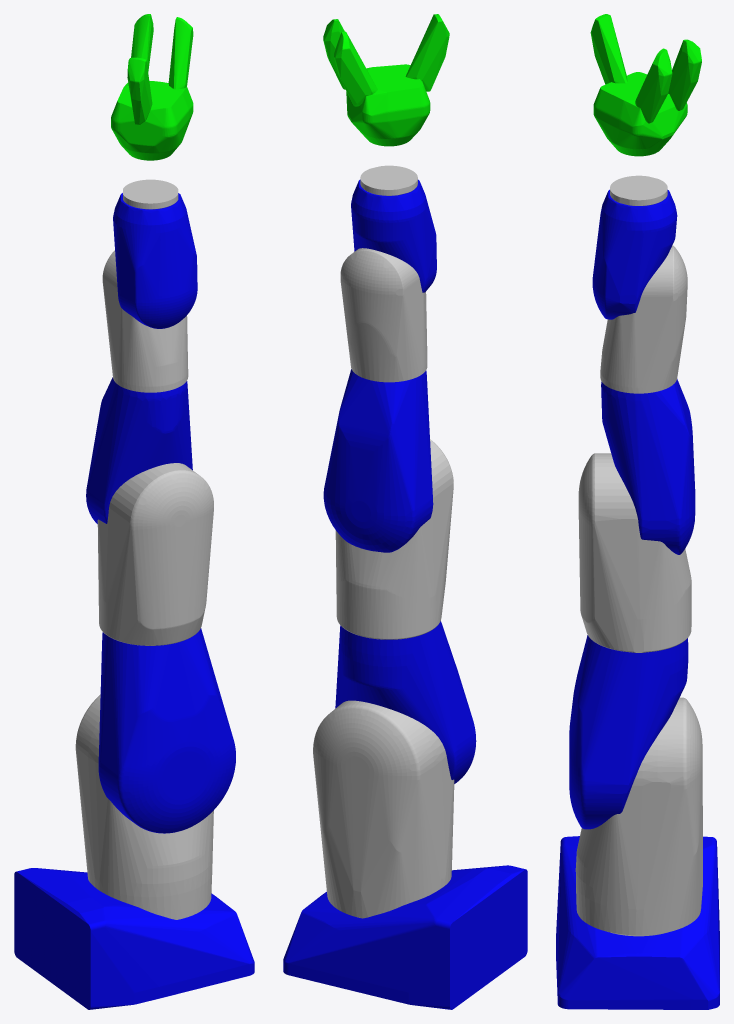
The model's file is longhorn.dae.
3 renders of one model, left to right at view 1: azimuth 30°, elevation 25°; view 2: azimuth 150°, elevation 25°; view 3: azimuth 270°, elevation 25°, orthographic. The views are drawn at different scales.
Parts seen in each view (by area): view 1: base_link, link_l, link_e, link_s, link_b, link_u, link_r, palm, link_t, finger_1, finger_2, finger_3; view 2: link_s, base_link, link_u, link_e, link_l, link_r, link_b, palm, finger_2, finger_3, link_t, finger_1; view 3: link_s, base_link, link_e, link_l, link_u, link_r, link_b, palm, finger_2, finger_1, finger_3, link_t.
Boxes of the visible parts, <box> form: base_link: <box>14,868,254,1009</box>; link_l: <box>98,628,235,833</box>; link_e: <box>97,463,213,645</box>; link_s: <box>75,694,213,919</box>; link_b: <box>113,193,197,328</box>; link_u: <box>86,377,192,523</box>; link_r: <box>102,250,188,392</box>; palm: <box>111,81,193,160</box>; link_t: <box>123,179,178,209</box>; finger_1: <box>168,17,193,89</box>; finger_2: <box>127,57,152,124</box>; finger_3: <box>131,14,153,71</box>; link_s: <box>313,700,454,918</box>; base_link: <box>283,865,527,1009</box>; link_u: <box>323,369,433,552</box>; link_e: <box>335,439,453,639</box>; link_l: <box>335,621,476,783</box>; link_r: <box>340,248,427,382</box>; link_b: <box>351,179,436,292</box>; palm: <box>346,64,430,146</box>; finger_2: <box>405,14,449,91</box>; finger_3: <box>334,31,377,106</box>; link_t: <box>360,165,417,195</box>; finger_1: <box>323,19,345,89</box>; link_s: <box>575,697,702,936</box>; base_link: <box>556,836,719,1009</box>; link_e: <box>578,453,691,652</box>; link_l: <box>569,635,688,829</box>; link_u: <box>601,379,695,554</box>; link_r: <box>600,245,687,393</box>; link_b: <box>592,189,677,319</box>; palm: <box>593,72,687,156</box>; finger_2: <box>590,14,627,84</box>; finger_1: <box>635,48,672,123</box>; finger_3: <box>668,39,701,110</box>; link_t: <box>610,175,667,205</box>.
Size of the model in its own units: 0.343 by 0.283 by 1.8.
